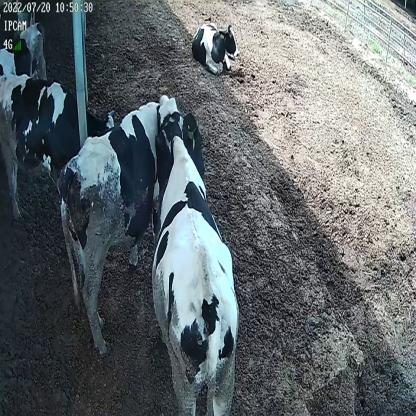cow: (58, 96, 210, 359), (150, 90, 242, 416), (0, 67, 117, 222), (190, 13, 240, 78)
